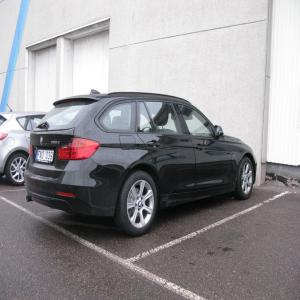Vehicle-registration-plate: (35, 148, 55, 165)
